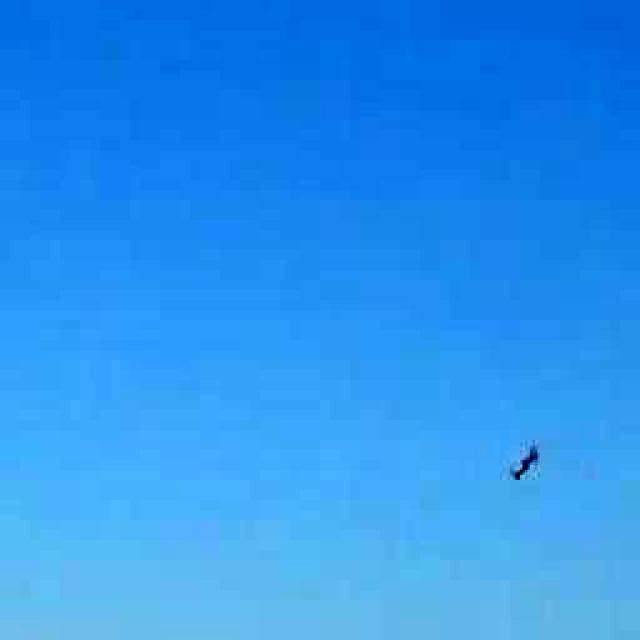bird: (479, 429, 564, 486)
